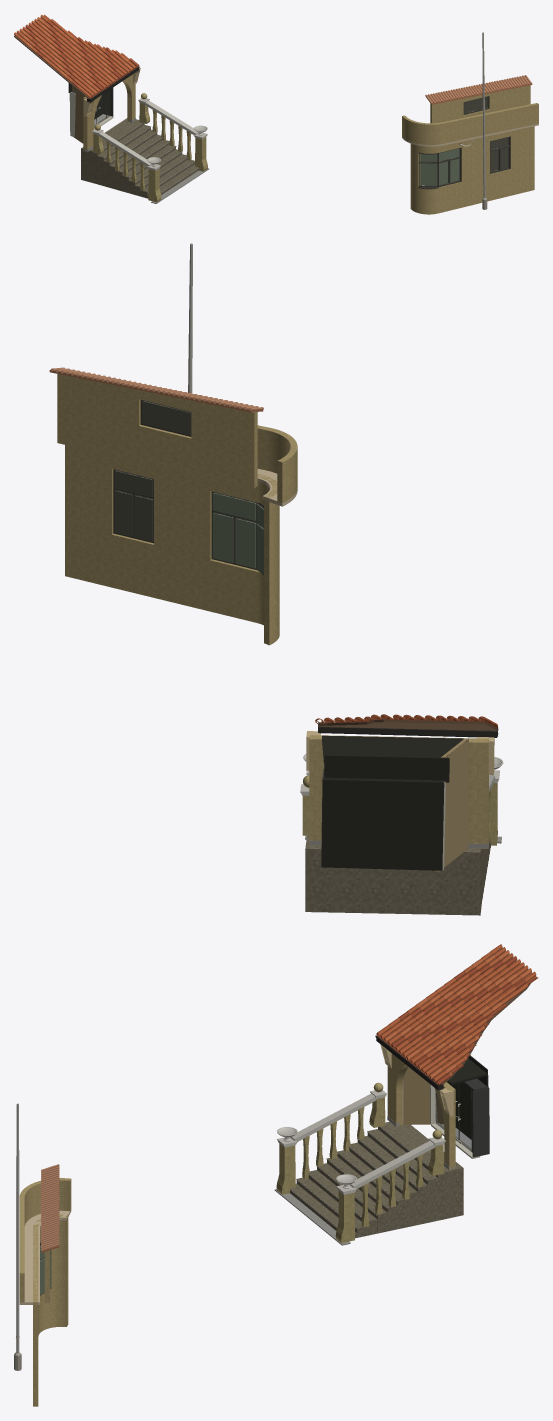
The model's file is xuhui-changle-325-garden-courtyard-and-arched-porch-raw.glb.
3 renders of one model, top to bottom at view 1: azimuth 30°, elevation 25°; view 2: azimuth 150°, elevation 25°; view 3: azimuth 270°, elevation 25°, orthographic. The views are drawn at different scales.
Visible parts, largest first — view 1: 长乐路325号院内弧窗与红瓦券廊; view 2: 长乐路325号院内弧窗与红瓦券廊; view 3: 长乐路325号院内弧窗与红瓦券廊.
Part boxes in pixels (<box>): 长乐路325号院内弧窗与红瓦券廊: <box>14,14,538,214</box>; 长乐路325号院内弧窗与红瓦券廊: <box>49,243,503,915</box>; 长乐路325号院内弧窗与红瓦券廊: <box>14,944,538,1406</box>.
Size of the model in its own units: 20.39 by 9.42 by 16.96.
36 materials, 3 textured.
